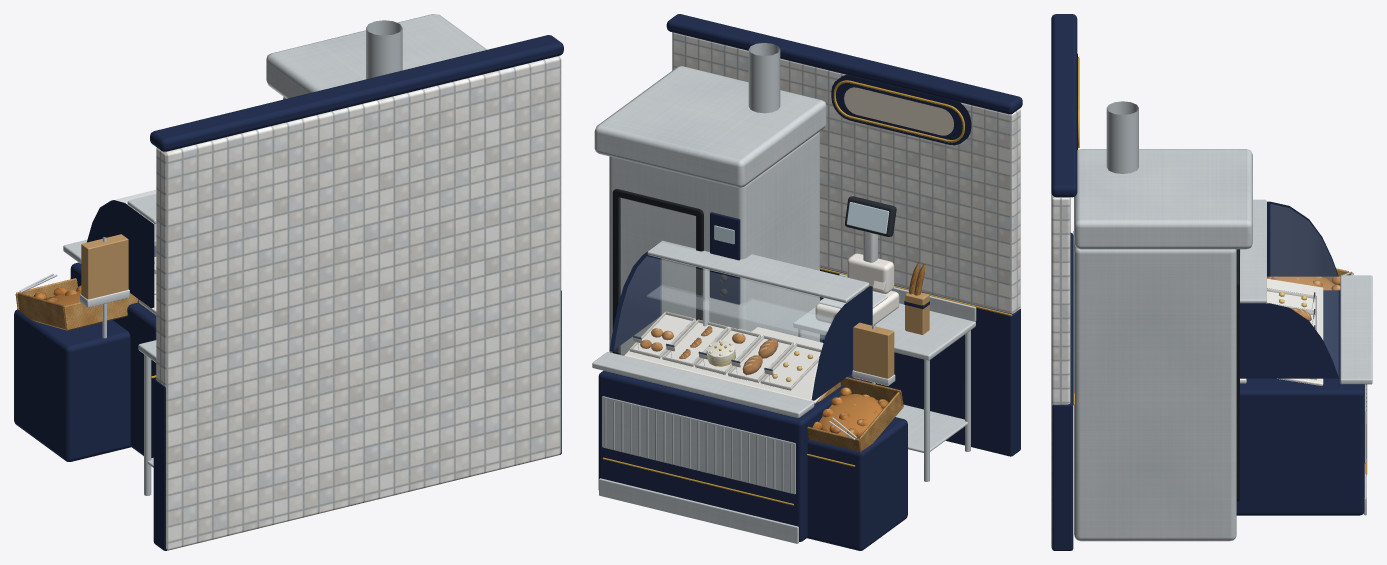
File: sector-padaria_T1.fbx
3 renders of one model, left to right at view 1: azimuth 30°, elevation 25°; view 2: azimuth 150°, elevation 25°; view 3: azimuth 270°, elevation 25°, orthographic. The views are drawn at different scales.
Visible parts, largest first — view 1: Body; view 2: Body; view 3: Body.
Part boxes in pixels (x1,y1,x2,y2): Body: (14,14,563,550); Body: (592,14,1022,550); Body: (1051,14,1372,550).
Bounding box in the file's own units: 2.54 × 2.6 × 1.98.
